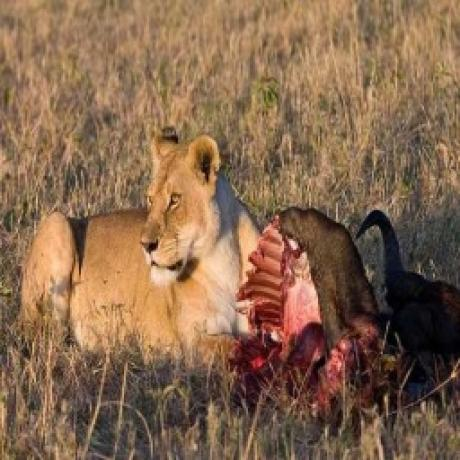Lion: (19, 120, 272, 378)
